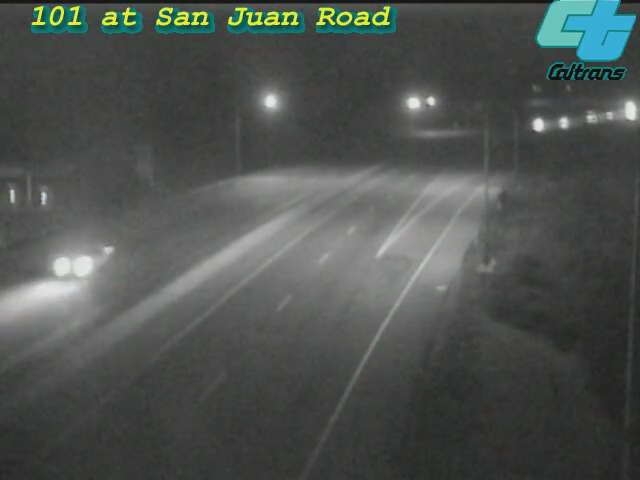vehicle: (40, 216, 120, 296), (584, 91, 634, 141), (564, 93, 614, 143), (540, 98, 590, 148), (510, 101, 560, 151), (597, 90, 640, 140), (606, 85, 640, 135)
